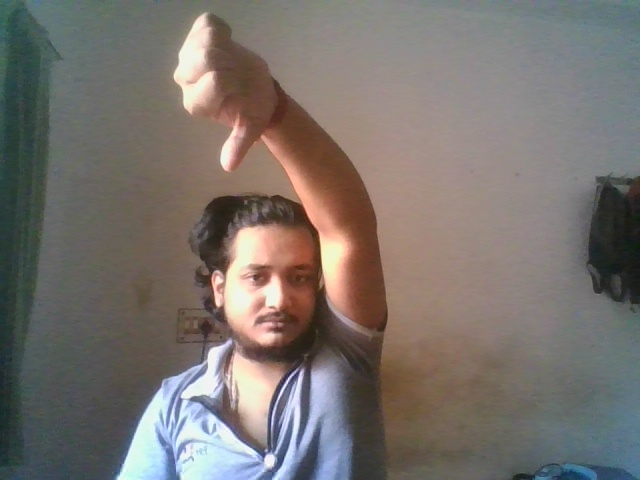ThumbsDown: (173, 11, 276, 172)
